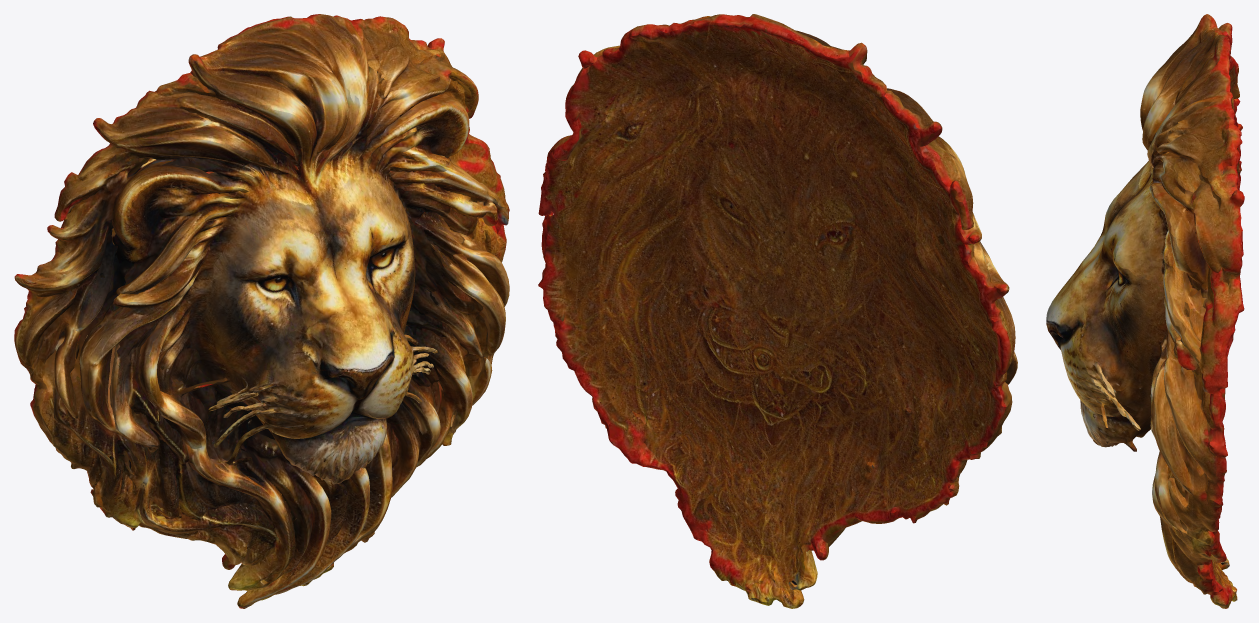
File: lion-bust.glb
3 views of the same model, side by side, from view 1: azimuth 30°, elevation 25°; view 2: azimuth 150°, elevation 25°; view 3: azimuth 270°, elevation 25° (orthographic). The views are drawn at different scales.
Parts seen in each view (by area): view 1: YVO3D.obj; view 2: YVO3D.obj; view 3: YVO3D.obj.
Part boxes in pixels (bbox=[...]): YVO3D.obj: bbox=[14, 14, 509, 608]; YVO3D.obj: bbox=[538, 14, 1017, 608]; YVO3D.obj: bbox=[1046, 14, 1244, 608].
Size of the model in its own units: 1.69 by 1.96 by 0.6373.
1 material, 1 textured.
